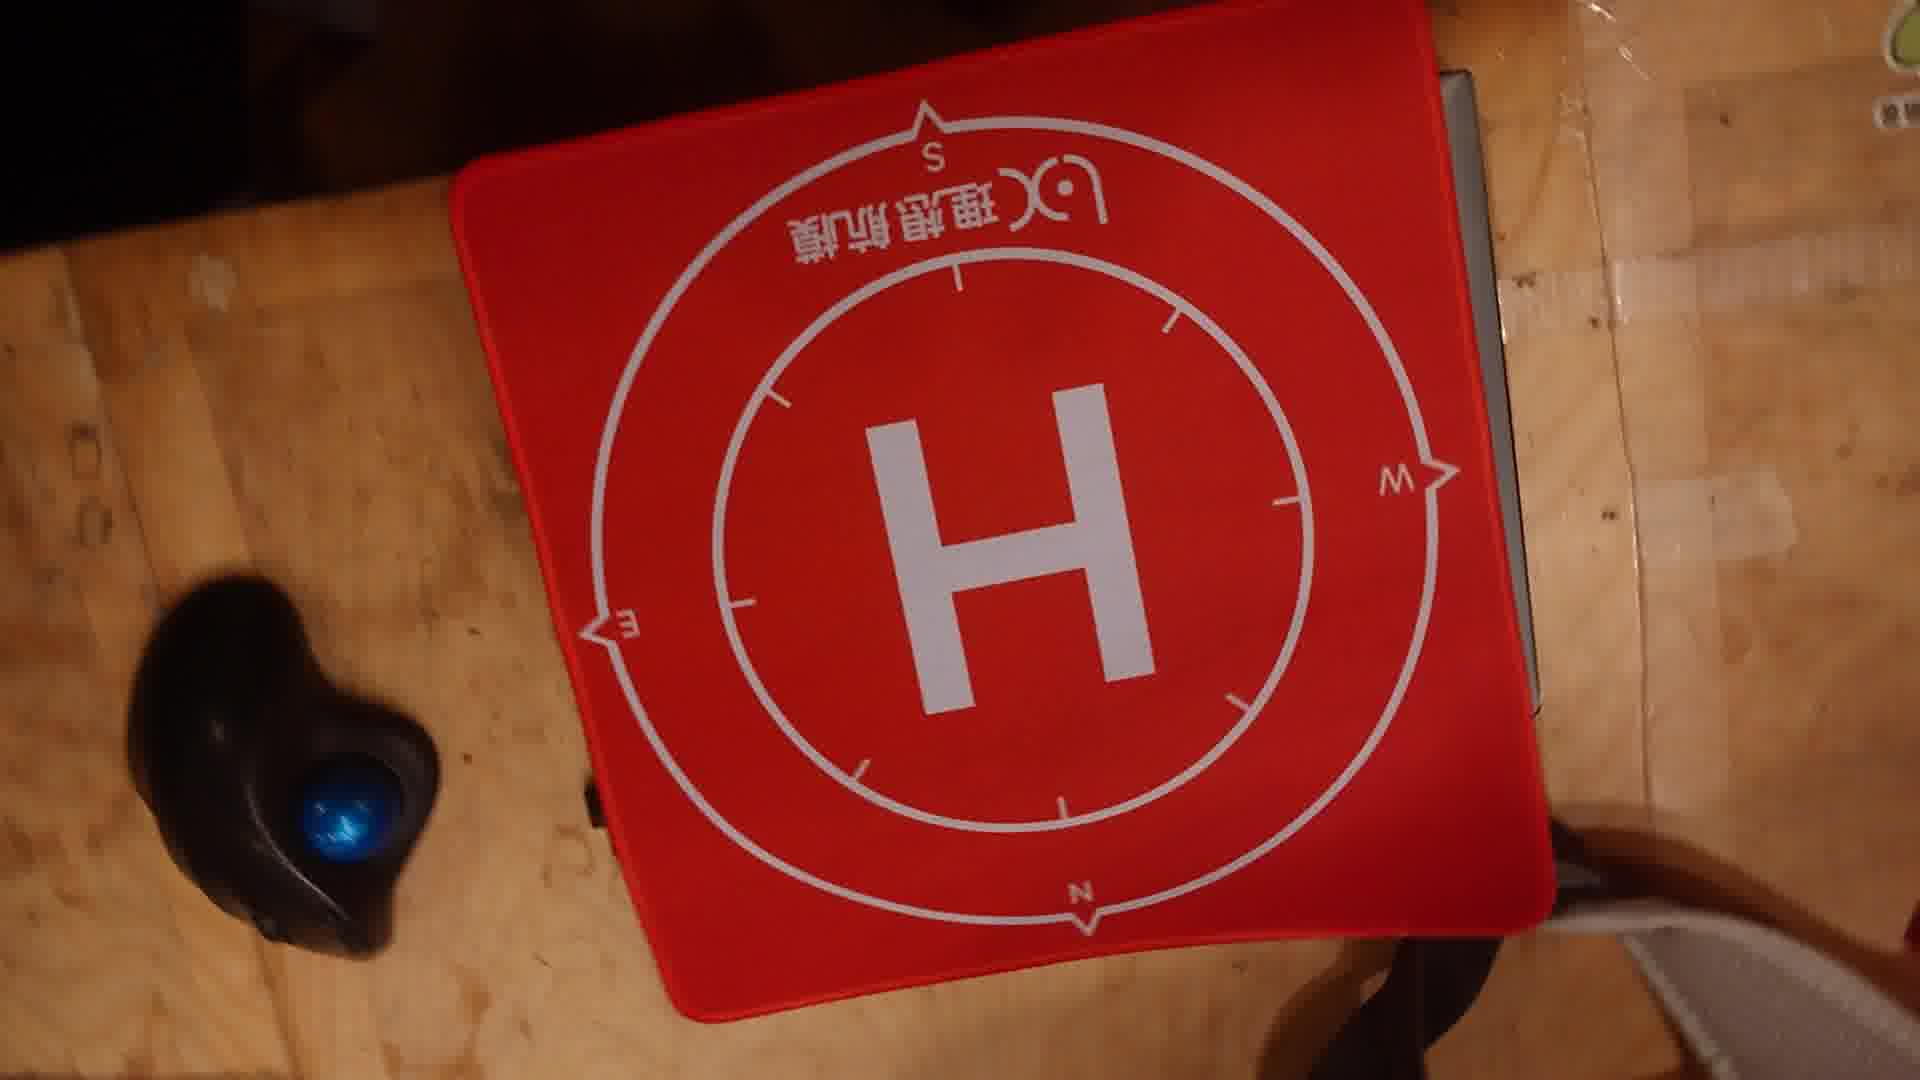H: (866, 382, 1162, 717)
